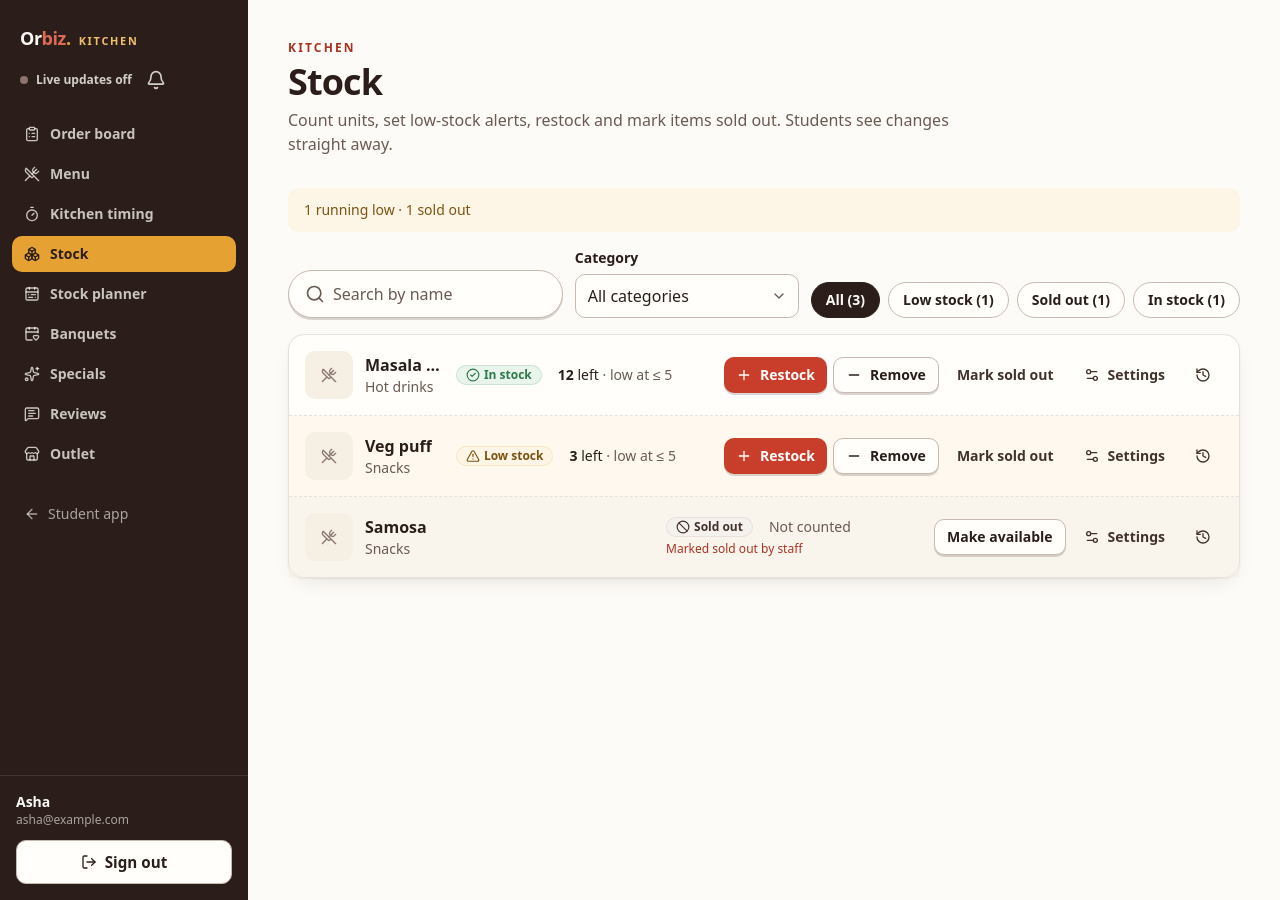
Test case: stock management (manager) › restocks with a validated quantity and shows the server’s new figure
Click the button with aria-label "Restock Masala chai" at (775, 375), box [724,357,827,393]
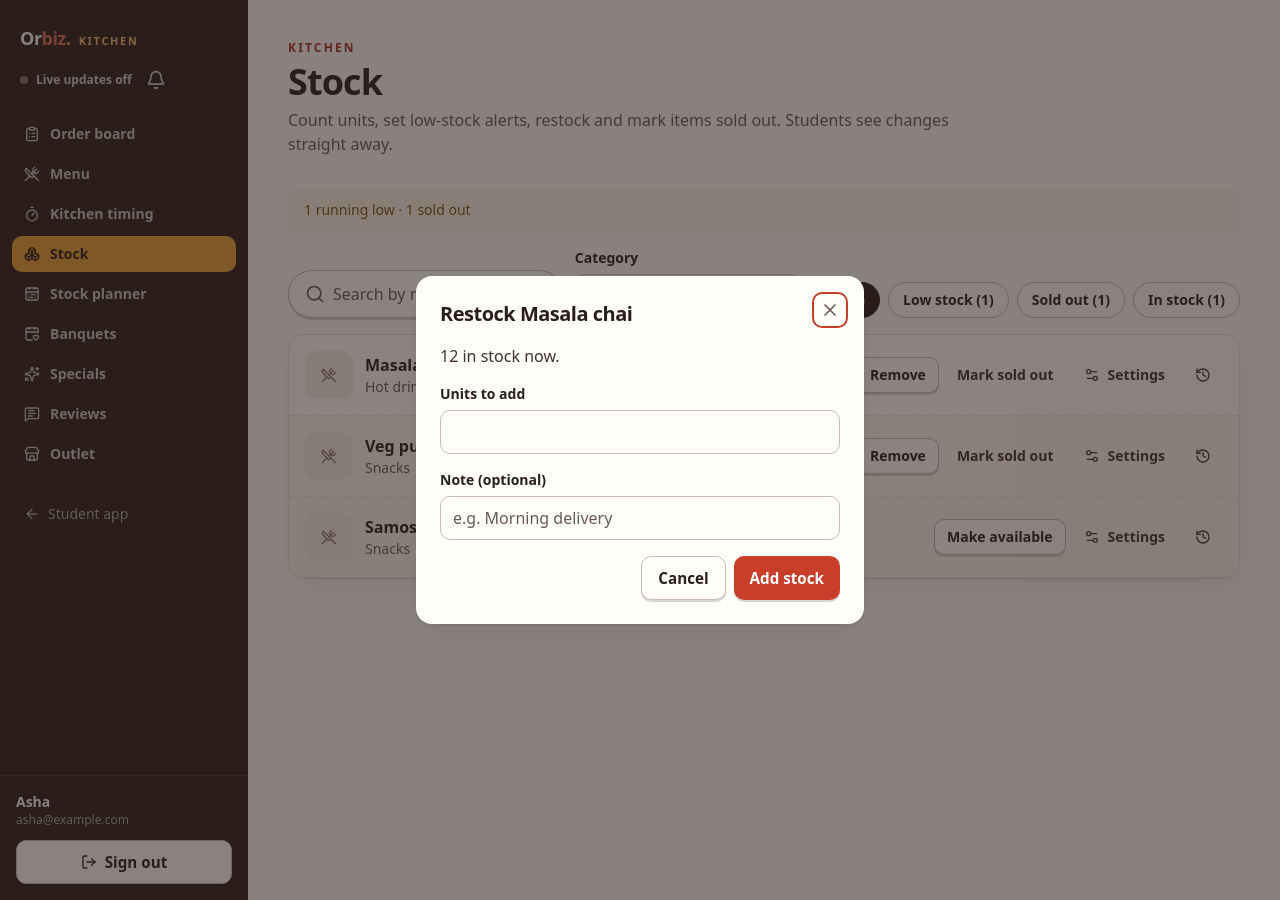
Type "0" into the field labelled "Units to add" at (640, 432), box [453,411,827,453]
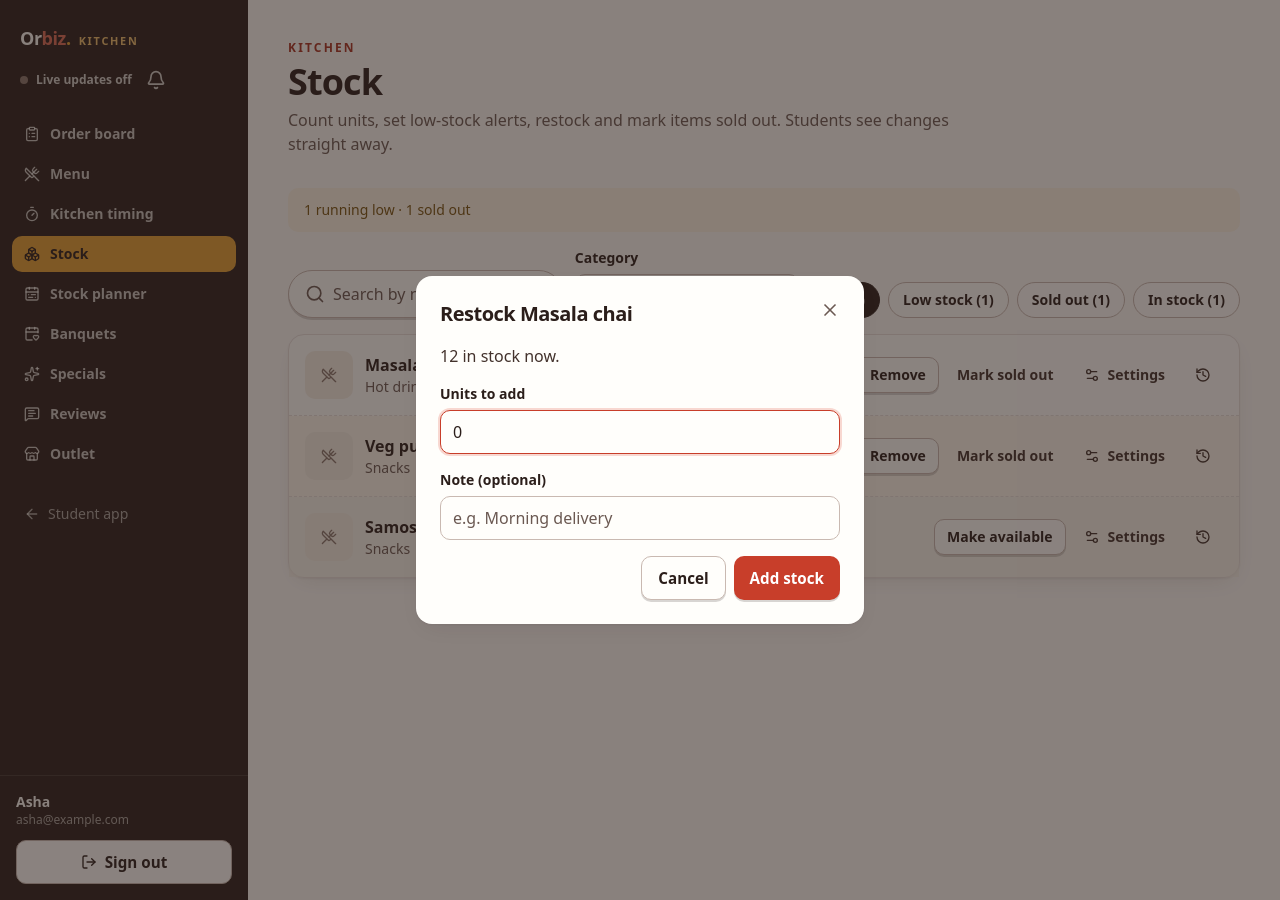
Click the button "Add stock" at (787, 578), box [734,556,840,600]
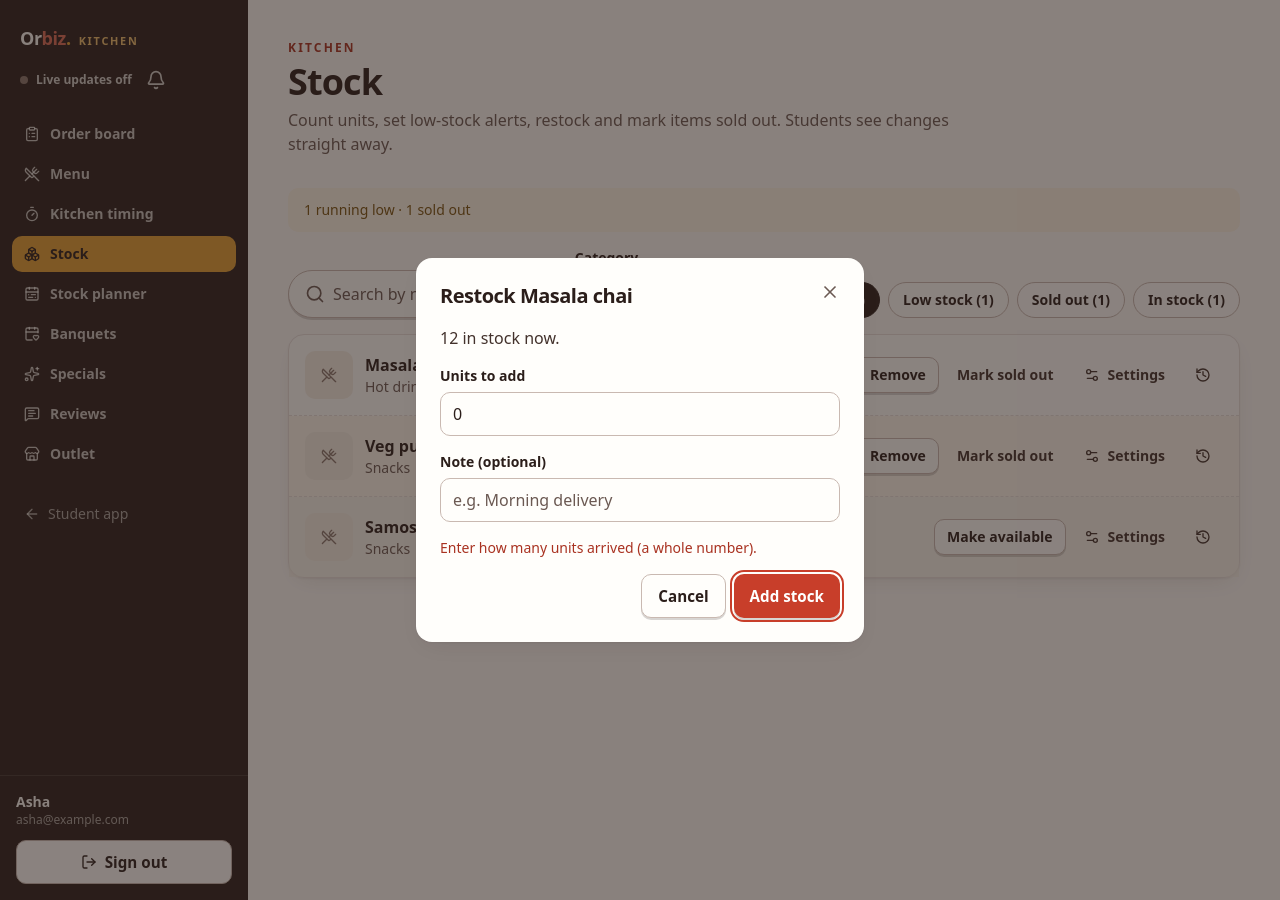
Check: the message "Enter how many units arrived (a whole number)." is shown, box [440,538,757,557]
Replace the text in the field labelled "Units to add" with "5" at (640, 414), box [453,393,827,435]
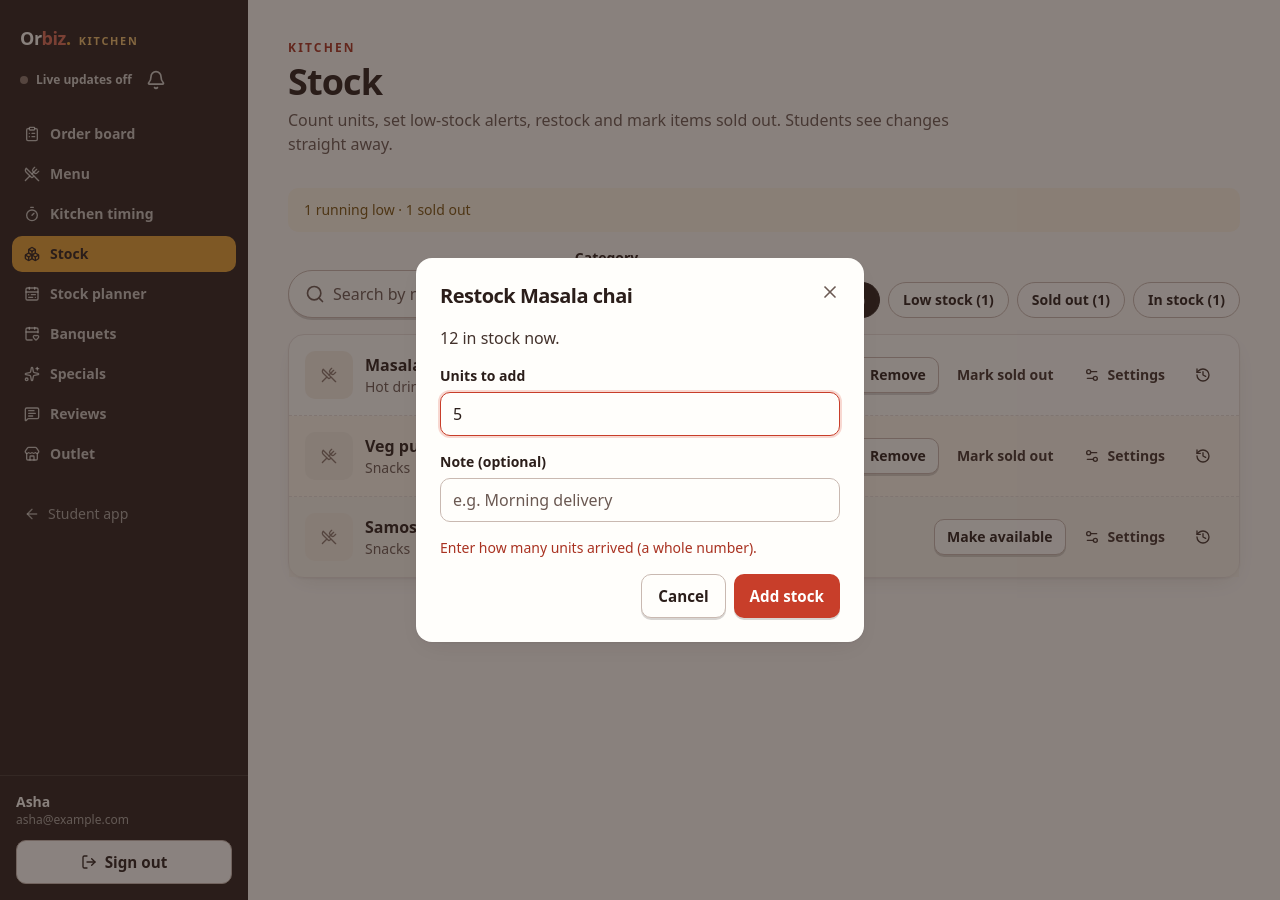
Type "Delivery" into the field labelled "Note (optional)" at (640, 500), box [453,479,827,521]
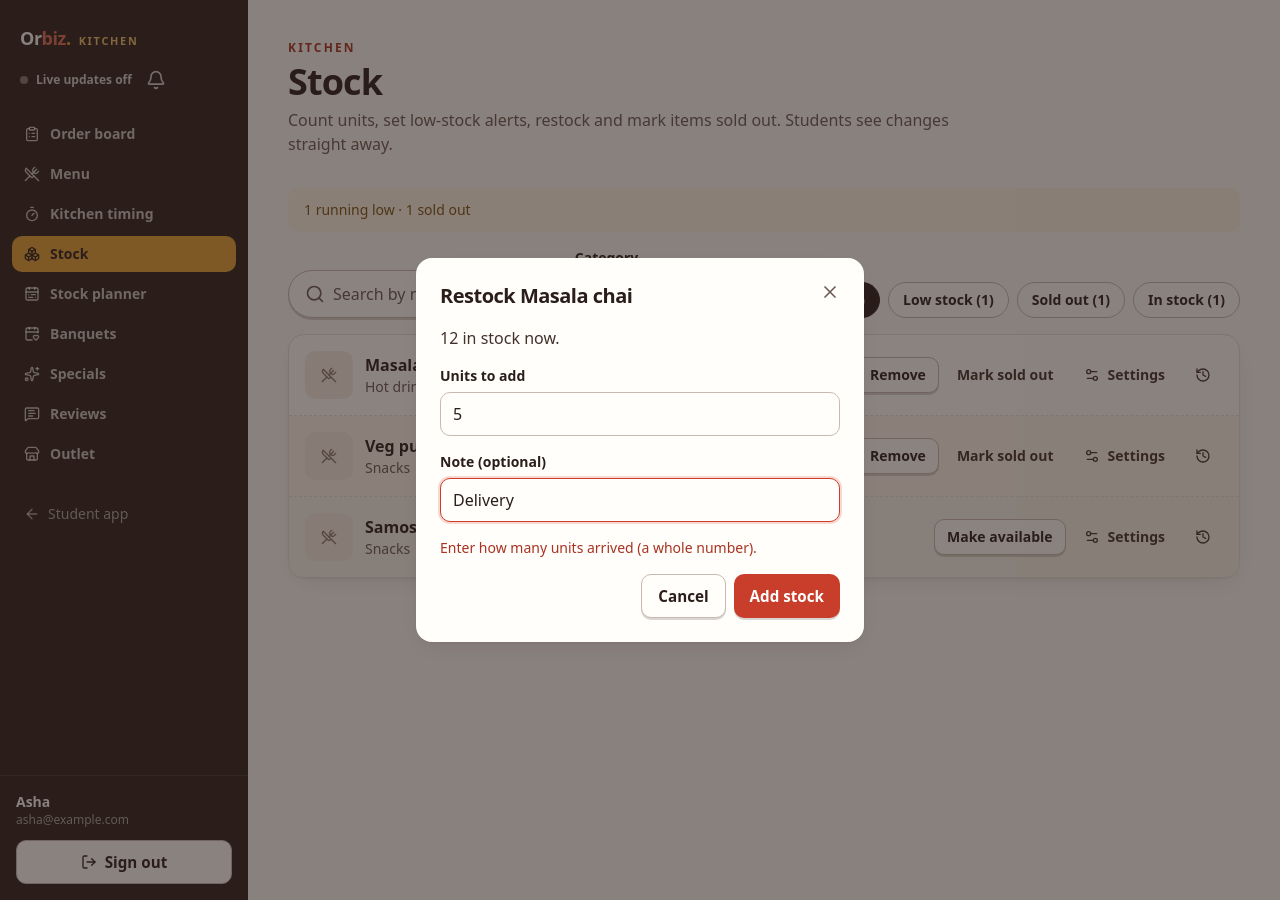
Click the button "Add stock" at (787, 596), box [734,574,840,618]
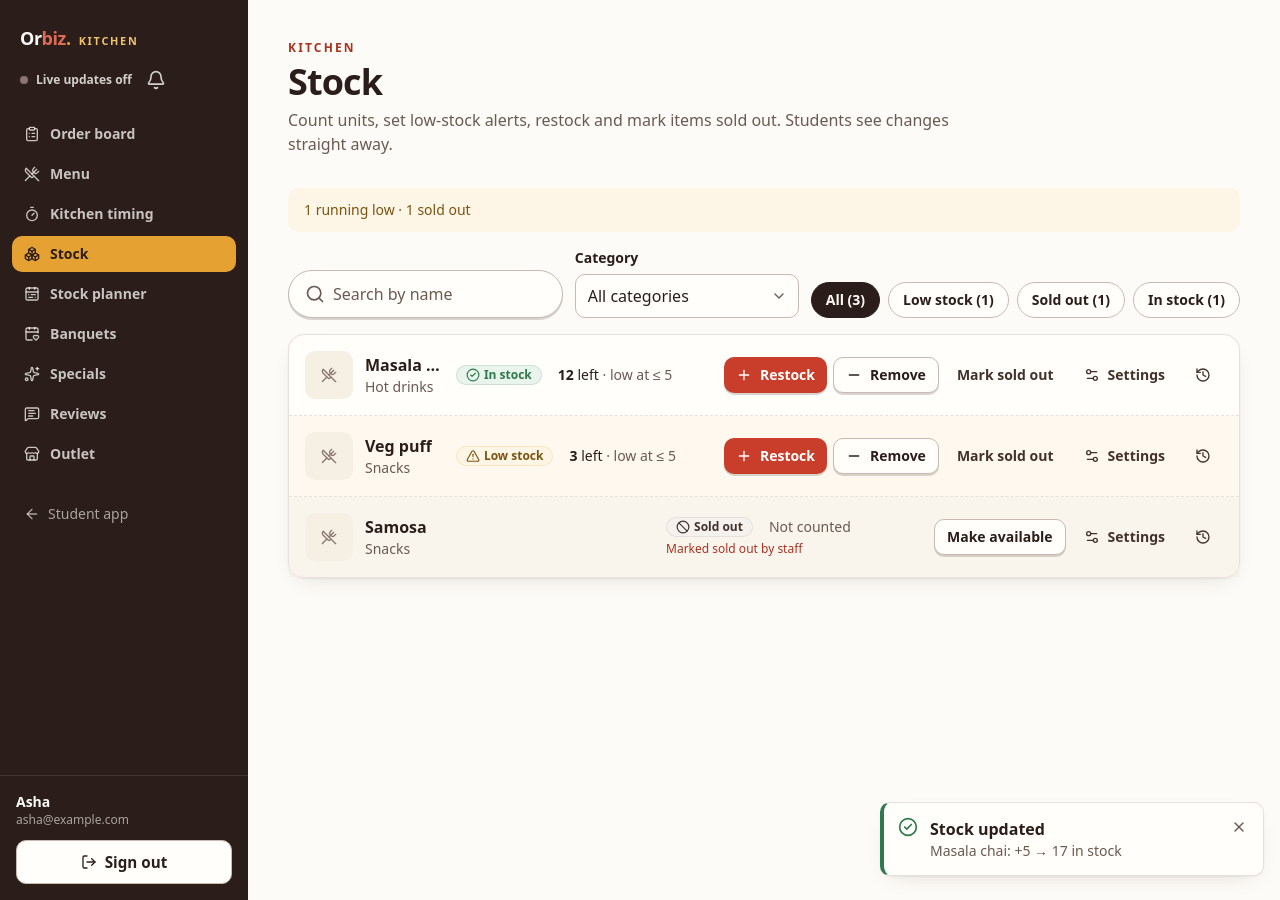
Check: the text "Masala chai: +5 → 17 in stock" is shown, box [930,841,1122,860]
